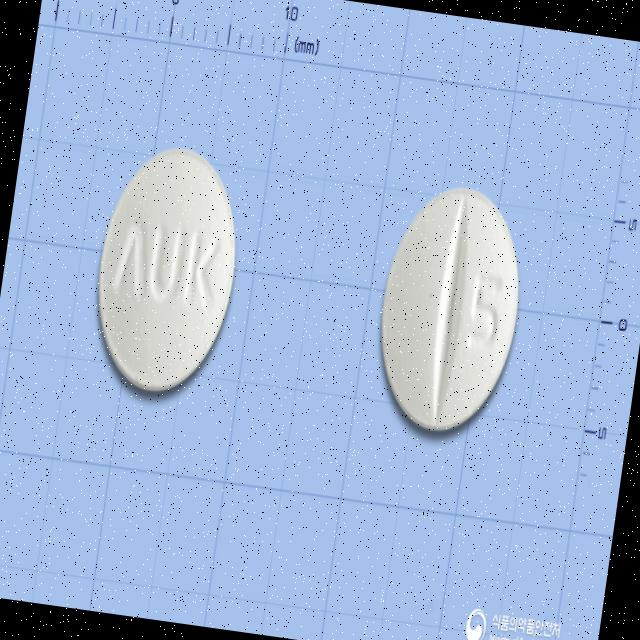Ciprox: (76, 130, 256, 414), (360, 176, 536, 449)
